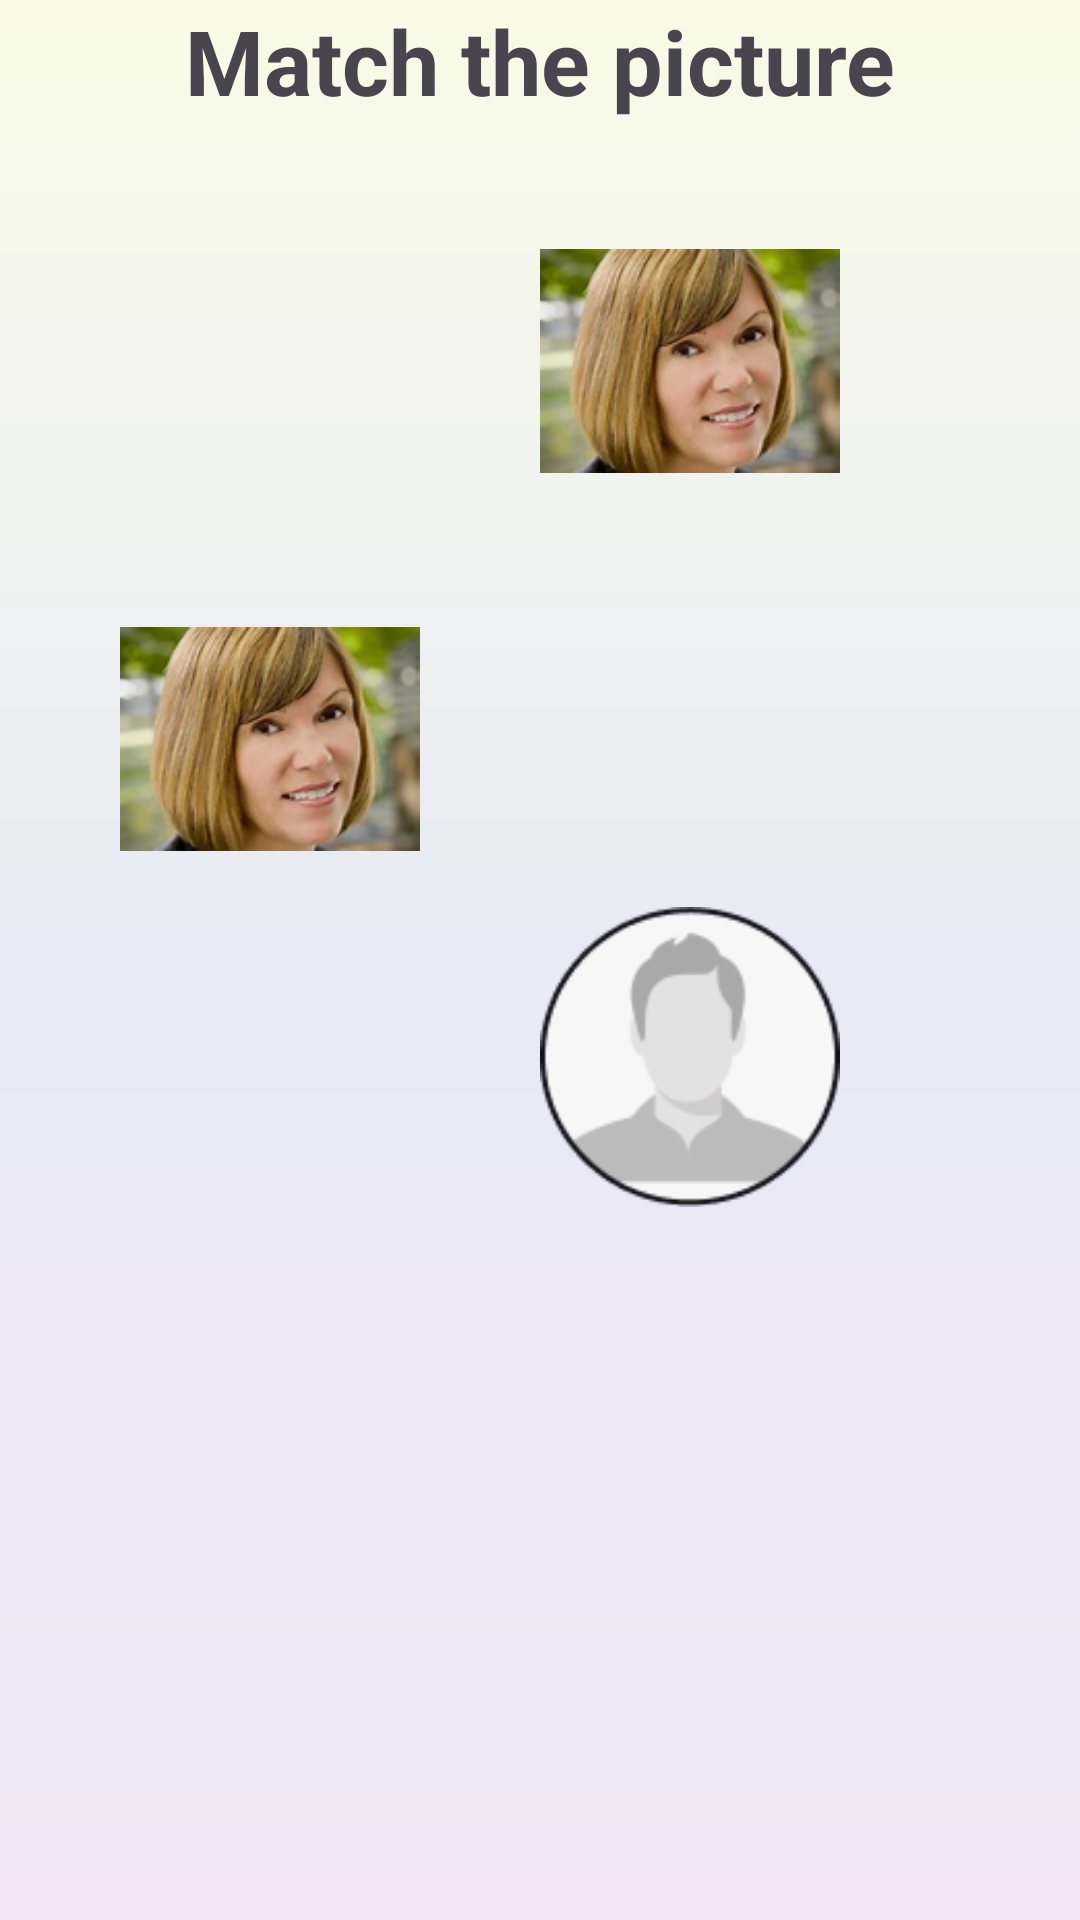

Screen size 1080*1920. Icon name, then its box in pixels as [x1,y1,x2,y2]:
place holder: [540,907,840,1207]
